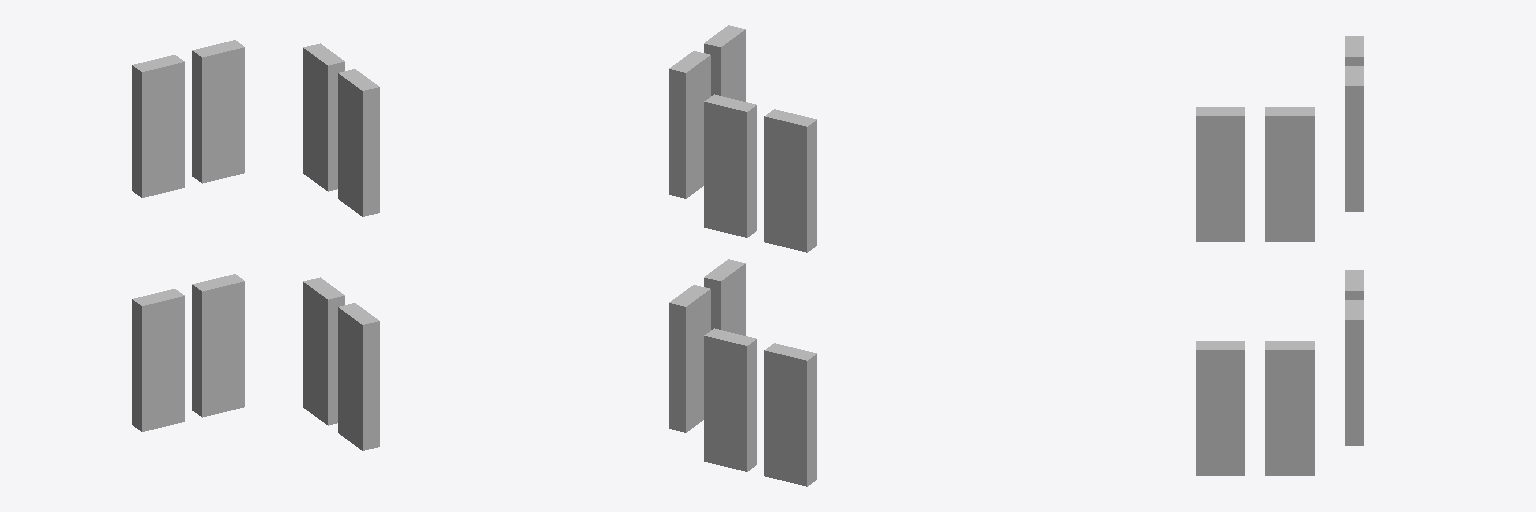
File: immobiliare san marco vetri-0.obj
The picture shows the model from 3 angles: view 1: azimuth 30°, elevation 25°; view 2: azimuth 150°, elevation 25°; view 3: azimuth 270°, elevation 25°; orthographic projection.
Parts seen in each view (by area): view 1: object 1; view 2: object 1; view 3: object 1.
Part boxes in pixels (x1,y1,x2,y2): object 1: (132, 40, 379, 450); object 1: (669, 25, 816, 486); object 1: (1196, 36, 1363, 475).
Size of the model in its own units: 1.9 by 4 by 1.7.